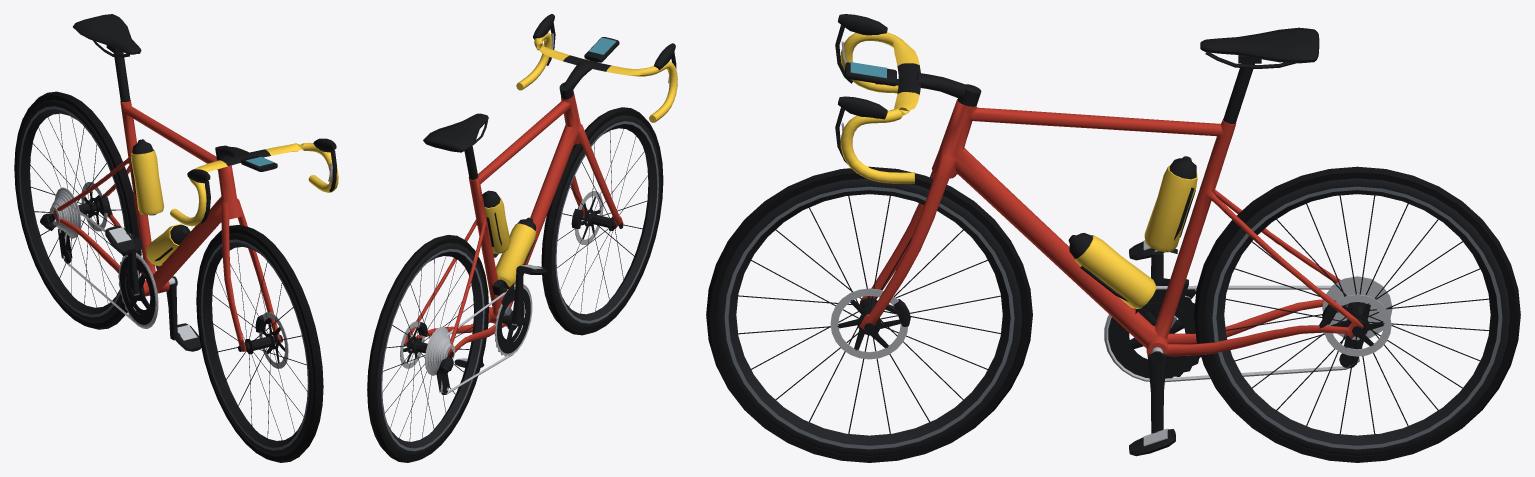
File: bike_climb.glb
The picture shows the model from 3 angles, left to right: view 1: azimuth 30°, elevation 25°; view 2: azimuth 150°, elevation 25°; view 3: azimuth 270°, elevation 25°; orthographic projection. The views are drawn at different scales.
Visible parts, largest first — view 1: frame, wheel_front, wheel_rear, crankset, pedal_R, pedal_L; view 2: frame, wheel_rear, wheel_front, crankset; view 3: frame, wheel_rear, wheel_front, crankset, pedal_L.
Boxes of the visible parts, left/top/right/bottom form: frame: left=40, top=14, right=338, bottom=351; wheel_front: left=196, top=225, right=323, bottom=462; wheel_rear: left=14, top=91, right=141, bottom=329; crankset: left=118, top=233, right=177, bottom=340; pedal_R: left=105, top=225, right=136, bottom=253; pedal_L: left=176, top=323, right=201, bottom=351; frame: left=404, top=14, right=677, bottom=394; wheel_rear: left=367, top=235, right=488, bottom=462; wheel_front: left=541, top=107, right=663, bottom=335; crankset: left=481, top=265, right=531, bottom=367; frame: left=835, top=14, right=1363, bottom=382; wheel_rear: left=1194, top=166, right=1520, bottom=462; wheel_front: left=706, top=166, right=1032, bottom=462; crankset: left=1108, top=252, right=1201, bottom=433; pedal_L: left=1129, top=428, right=1175, bottom=456.
Size of the model in its own units: 0.4644 by 0.9595 by 1.67.
